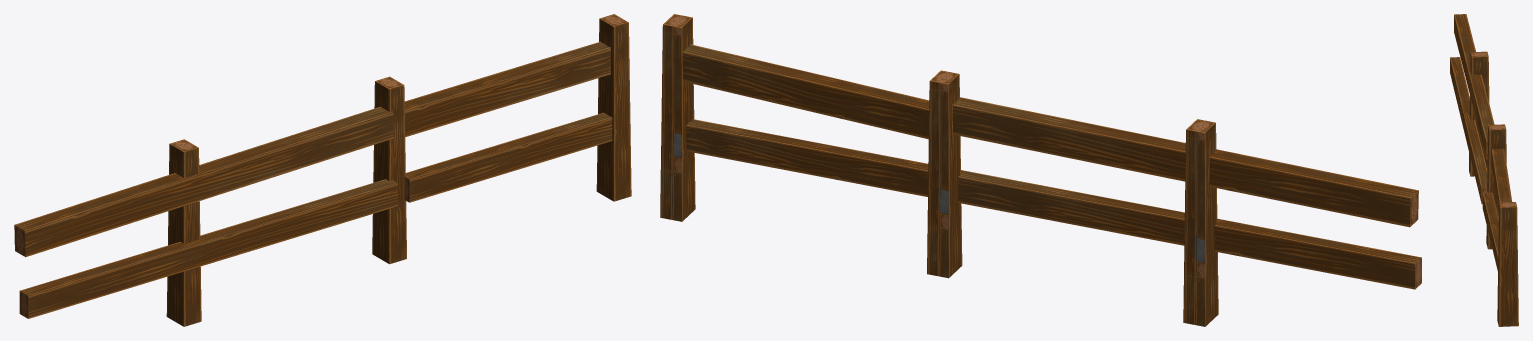
3 renders of one model, left to right at view 1: azimuth 30°, elevation 25°; view 2: azimuth 150°, elevation 25°; view 3: azimuth 270°, elevation 25°, orthographic. The views are drawn at different scales.
Parts seen in each view (by area): view 1: Cube.2155; view 2: Cube.2155; view 3: Cube.2155.
Boxes of the visible parts, box(x1,y1,x2,y2) form: Cube.2155: box(14, 14, 631, 326); Cube.2155: box(660, 14, 1421, 326); Cube.2155: box(1450, 14, 1518, 326).
Size of the model in its own units: 509 by 132 by 69.25.
Materials: 1 (1 with a texture image).
